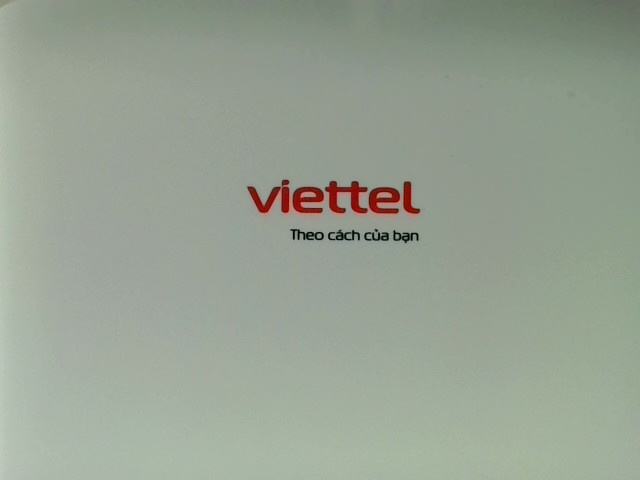AY_Viettel: (244, 176, 426, 245)
